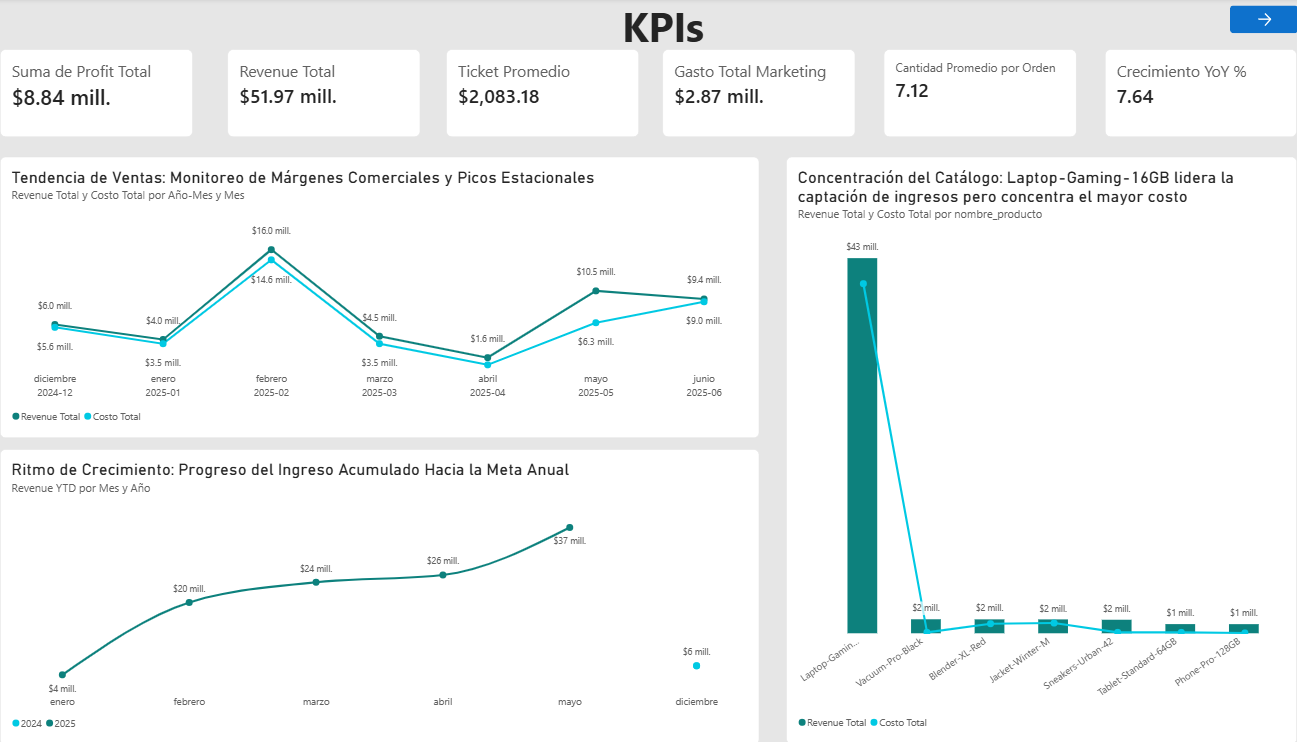

What the dashboard file says about the page in this screenshot:
{"tool":"powerbi","page":{"name":"Overview Ejecutivo","canvas":[1920,1080],"ordinal":0},"visuals":[{"type":"cardVisual","fields":{"Data":["Sum(_Medidas.Profit Total)"]},"box":[0,73.8,279.9,127.6],"z":0},{"type":"cardVisual","fields":{"Data":["_Medidas.Revenue Total"]},"box":[330.2,73.8,279.9,127.6],"z":1000},{"type":"cardVisual","fields":{"Data":["_Medidas.Ticket Promedio"]},"box":[645.7,73.8,279.9,127.6],"z":2000},{"type":"cardVisual","fields":{"Data":["_Medidas.Cantidad Promedio por Orden"]},"box":[1280.2,73.8,279.9,127.6],"z":3000},{"type":"cardVisual","fields":{"Data":["_Medidas.Crecimiento YoY %"]},"box":[1599.4,73.8,279.9,127.6],"z":4000},{"type":"textbox","box":[0,417.8,279.9,94.7],"z":5000},{"type":"textbox","box":[819.2,0,279.9,105],"z":6000},{"type":"lineChart","title":"Tendencia de Ventas: Monitoreo de Márgenes Comerciales y Picos Estacionales","fields":{"Category":["Dim_Fecha.Año-Mes","Dim_Fecha.Mes"],"Y":["_Medidas.Revenue Total","_Medidas.Costo Total"]},"box":[0,230.5,1099.1,407.5],"z":7000},{"type":"lineChart","title":"Ritmo de Crecimiento: Progreso del Ingreso Acumulado Hacia la Meta Anual","fields":{"Category":["Dim_Fecha.Mes"],"Y":["_Medidas.Revenue YTD"],"Series":["Dim_Fecha.Año"]},"box":[0,652.5,1099.1,428.1],"z":8000},{"type":"lineClusteredColumnComboChart","title":"Concentración del Catálogo: Laptop-Gaming-16GB  lidera la captación de ingresos pero concentra el mayor costo","fields":{"Category":["catalog_clean.nombre_producto"],"Y":["_Medidas.Revenue Total"],"Y2":["_Medidas.Costo Total"]},"box":[1138.3,230.5,741,850.1],"z":9000},{"type":"cardVisual","fields":{"Data":["_Medidas.Gasto Total Marketing"]},"box":[959.3,73.8,279.9,127.6],"z":10000},{"type":"actionButton","box":[1780.2,11.1,100,40],"z":11000}]}

Visuals, with their boxes in screenshot pixels (x1, y1, x2, y2), scaled from the page's 1920x1080 canvas onto the 1297x742 screenshot:
cardVisual - Sum(_Medidas.Profit Total): [left=0, top=51, right=189, bottom=138]
cardVisual - _Medidas.Revenue Total: [left=223, top=51, right=412, bottom=138]
cardVisual - _Medidas.Ticket Promedio: [left=436, top=51, right=625, bottom=138]
cardVisual - _Medidas.Cantidad Promedio por Orden: [left=865, top=51, right=1054, bottom=138]
cardVisual - _Medidas.Crecimiento YoY %: [left=1080, top=51, right=1270, bottom=138]
textbox: [left=0, top=287, right=189, bottom=352]
textbox: [left=553, top=0, right=742, bottom=72]
"Tendencia de Ventas: Monitoreo de Márgenes Comerciales y Picos Estacionales" lineChart: [left=0, top=158, right=742, bottom=438]
"Ritmo de Crecimiento: Progreso del Ingreso Acumulado Hacia la Meta Anual" lineChart: [left=0, top=448, right=742, bottom=741]
"Concentración del Catálogo: Laptop-Gaming-16GB  lidera la captación de ingresos pero concentra el mayor costo" lineClusteredColumnComboChart: [left=769, top=158, right=1270, bottom=741]
cardVisual - _Medidas.Gasto Total Marketing: [left=648, top=51, right=837, bottom=138]
actionButton: [left=1203, top=8, right=1270, bottom=35]
